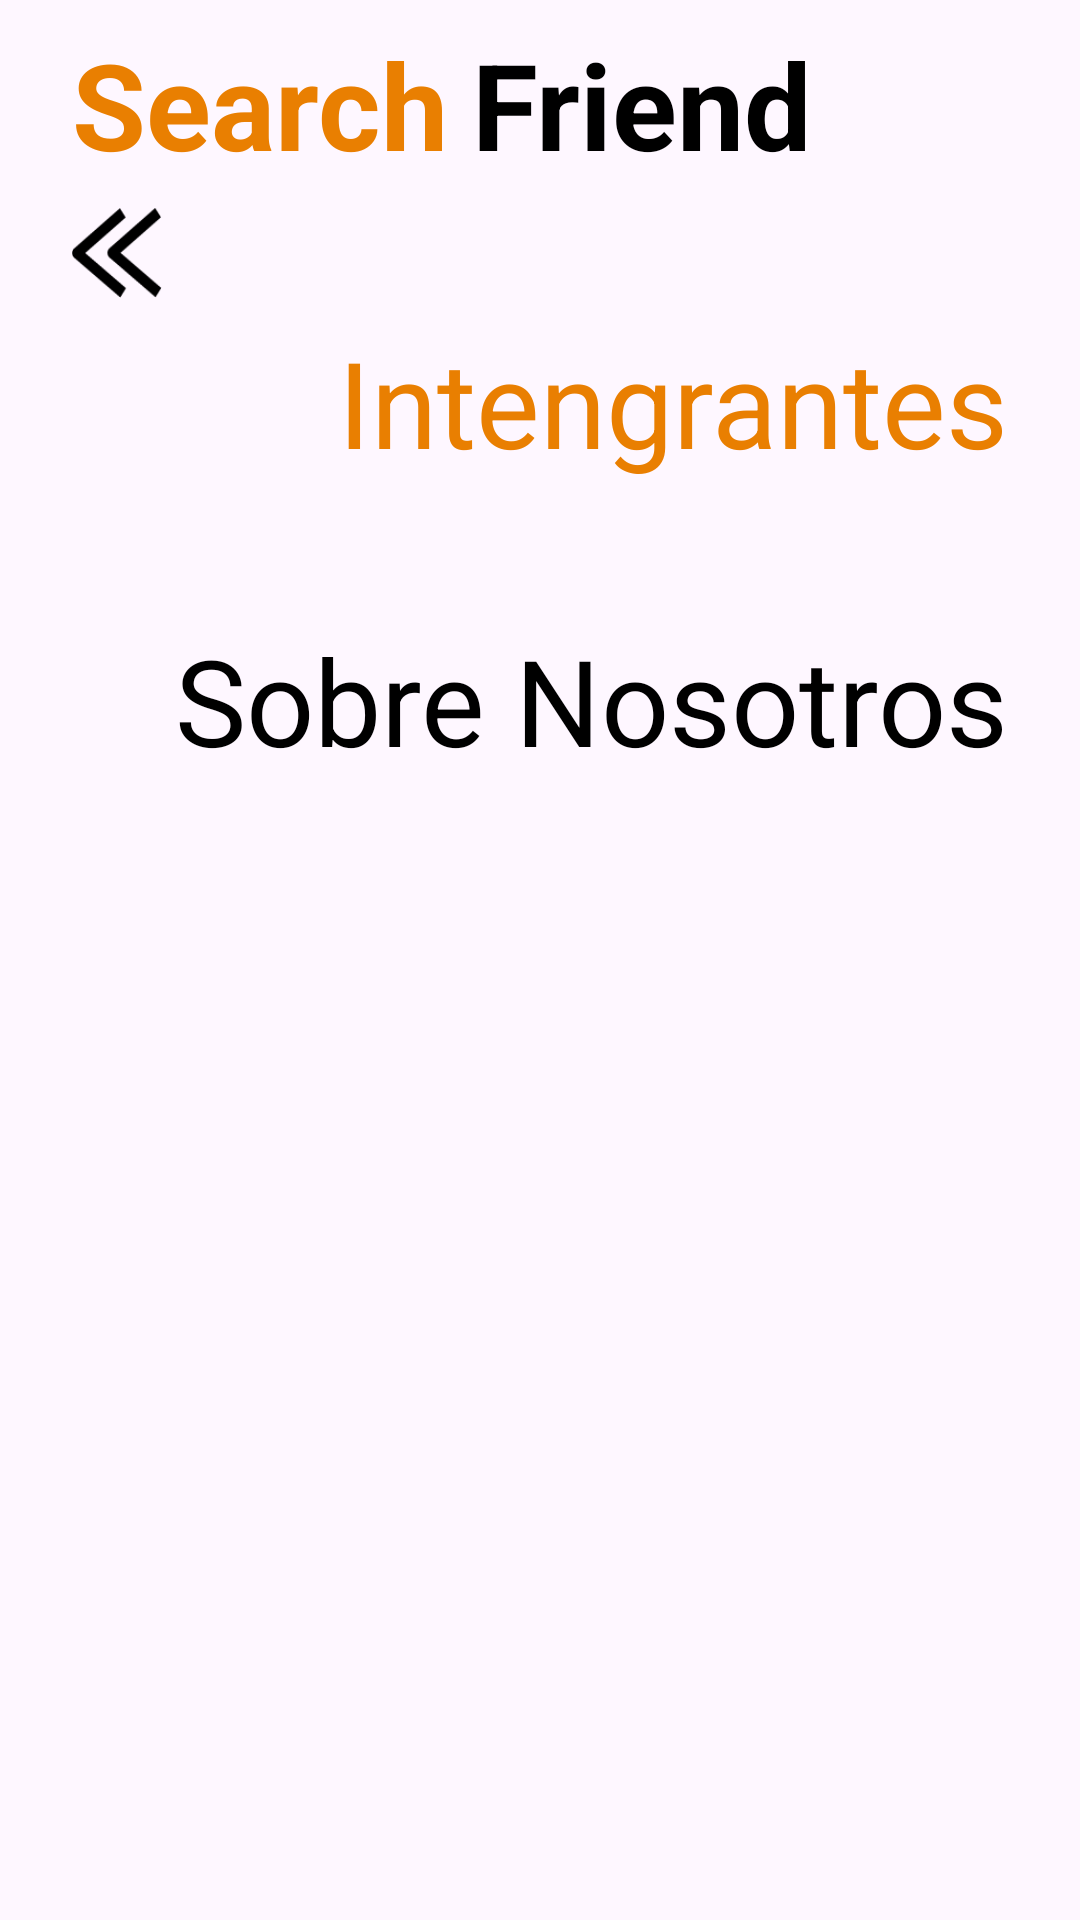

Point at icon controls on the screen. Image size 1080x1920, points as (x,y).
arrow: (116,253)
